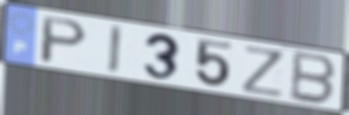3: (141, 31, 189, 84)
5: (194, 37, 236, 90)
B: (287, 49, 339, 108)
I: (106, 22, 125, 76)
P: (37, 14, 91, 65)
Z: (241, 43, 286, 100)
